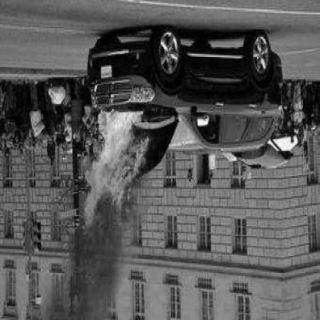Fire: (82, 104, 148, 238)
Smoke: (73, 239, 123, 311)
